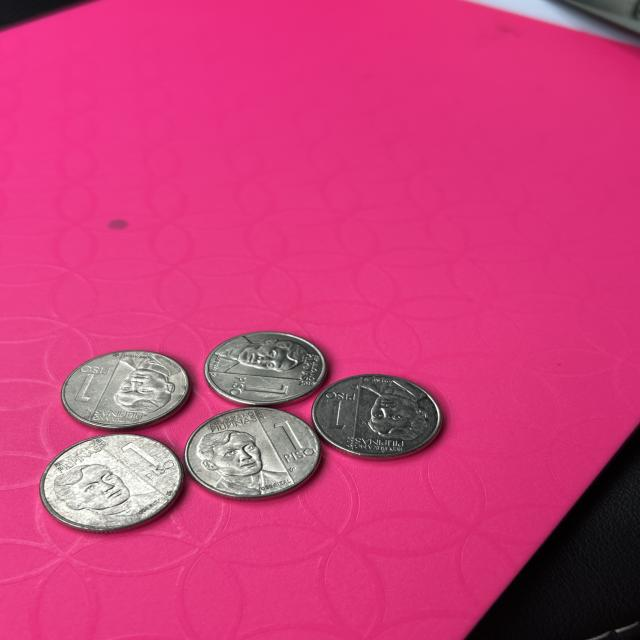1_New_Front: (265, 419, 325, 472), (116, 444, 174, 489), (228, 373, 288, 405), (321, 387, 359, 434), (66, 365, 105, 403)
